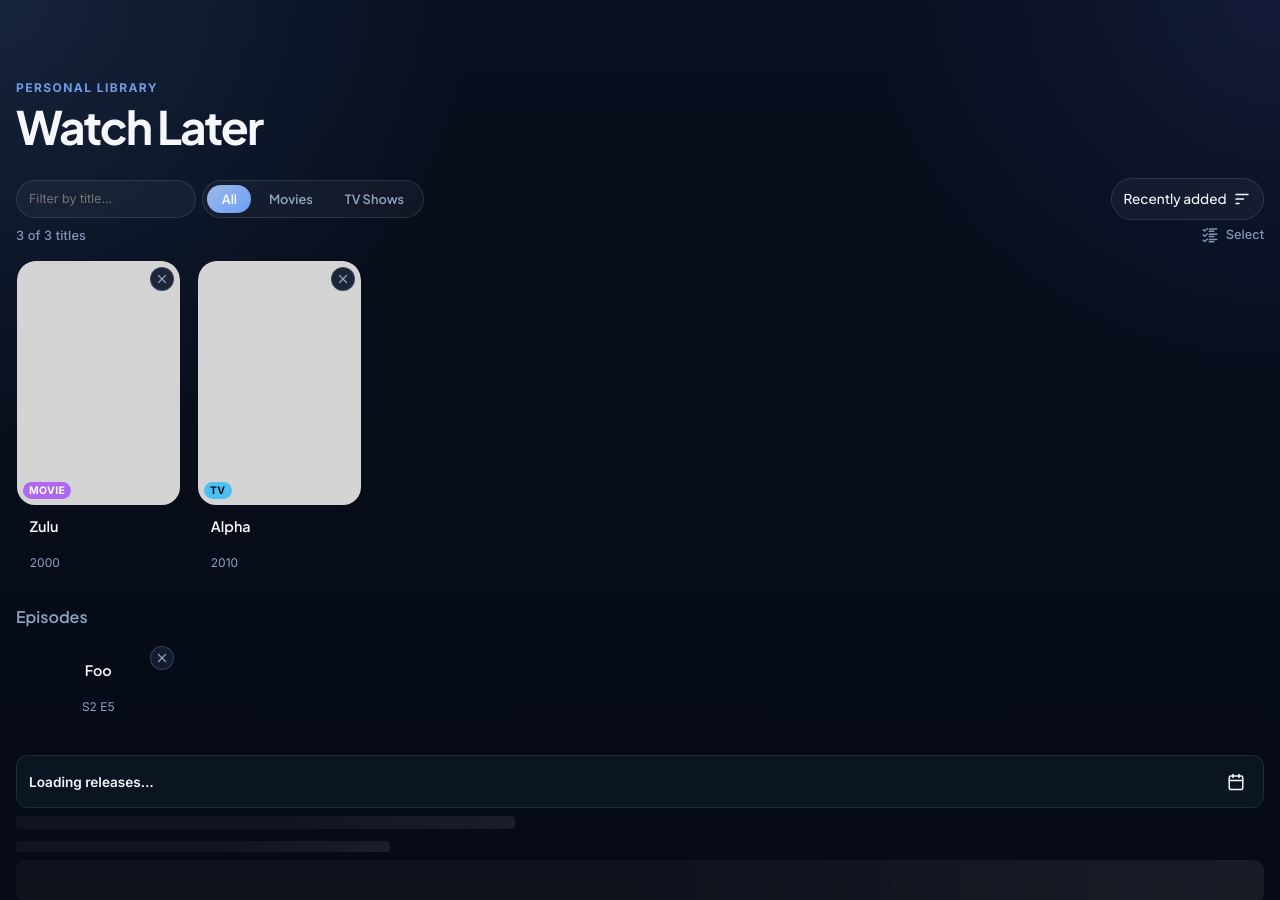
Test: WatchLater card footer › Remove still removes the item
Click the button named "Remove Zulu from Watch Later": [162, 279] box [150,267,174,291]
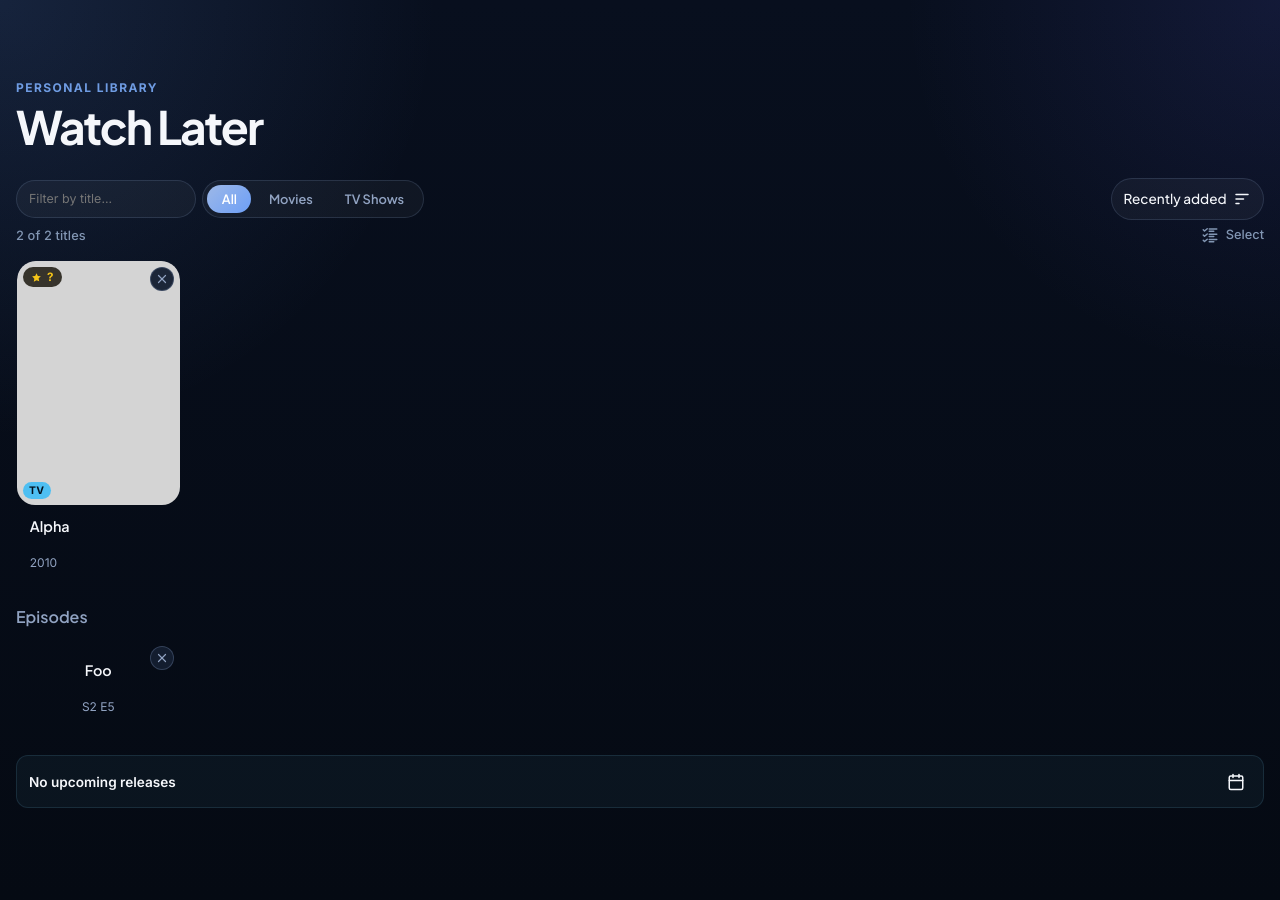
Result: the link "Zulu" is gone
